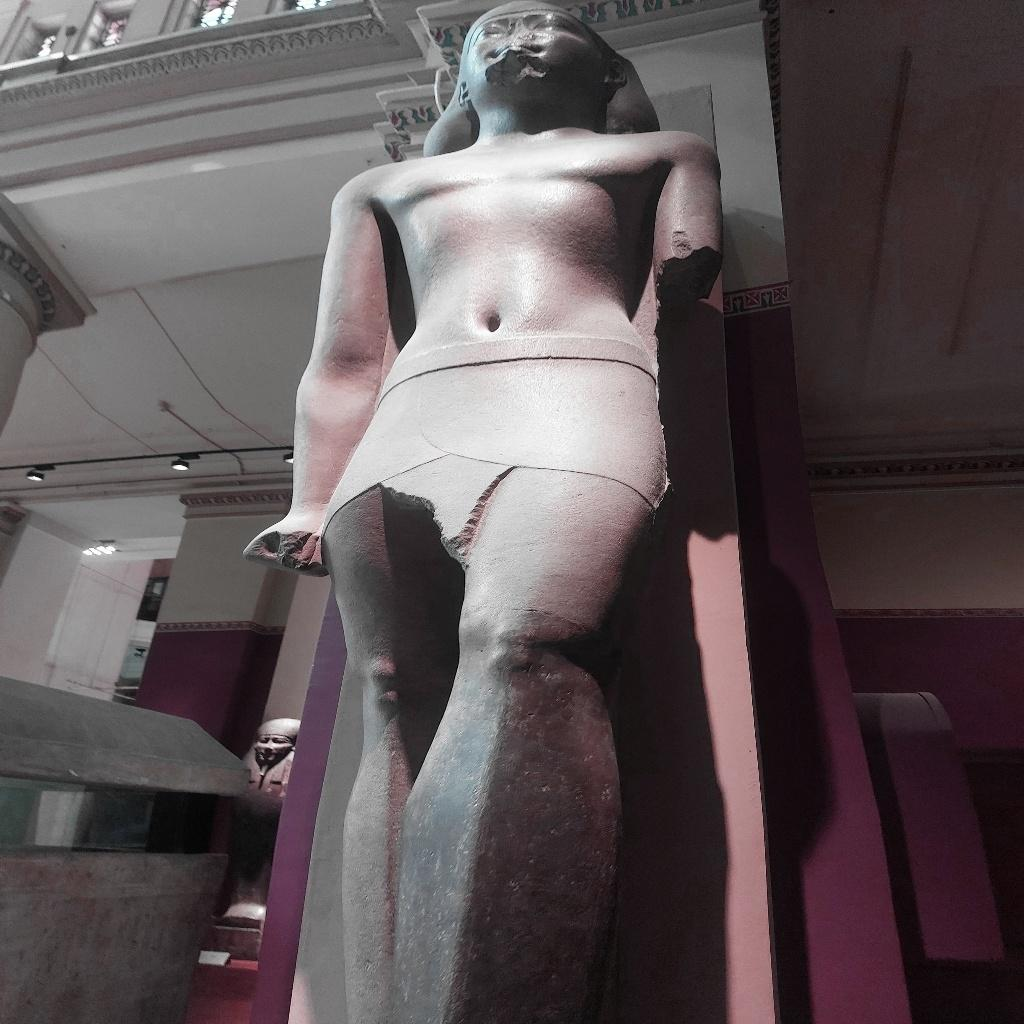Colossal Statue of Hormoheb: (238, 2, 728, 1018)
